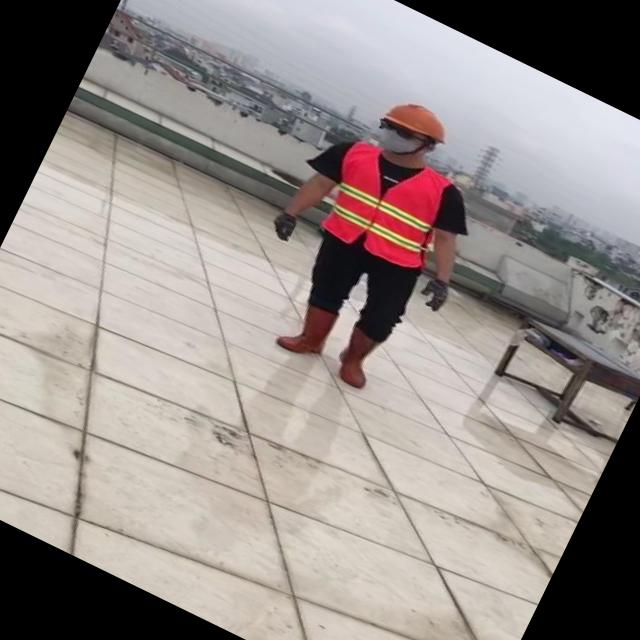hard_hat: (379, 88, 460, 151)
safety_vest: (313, 136, 461, 276)
vehicle: (216, 66, 530, 421)
work_boots: (274, 296, 340, 365), (326, 322, 389, 390)
